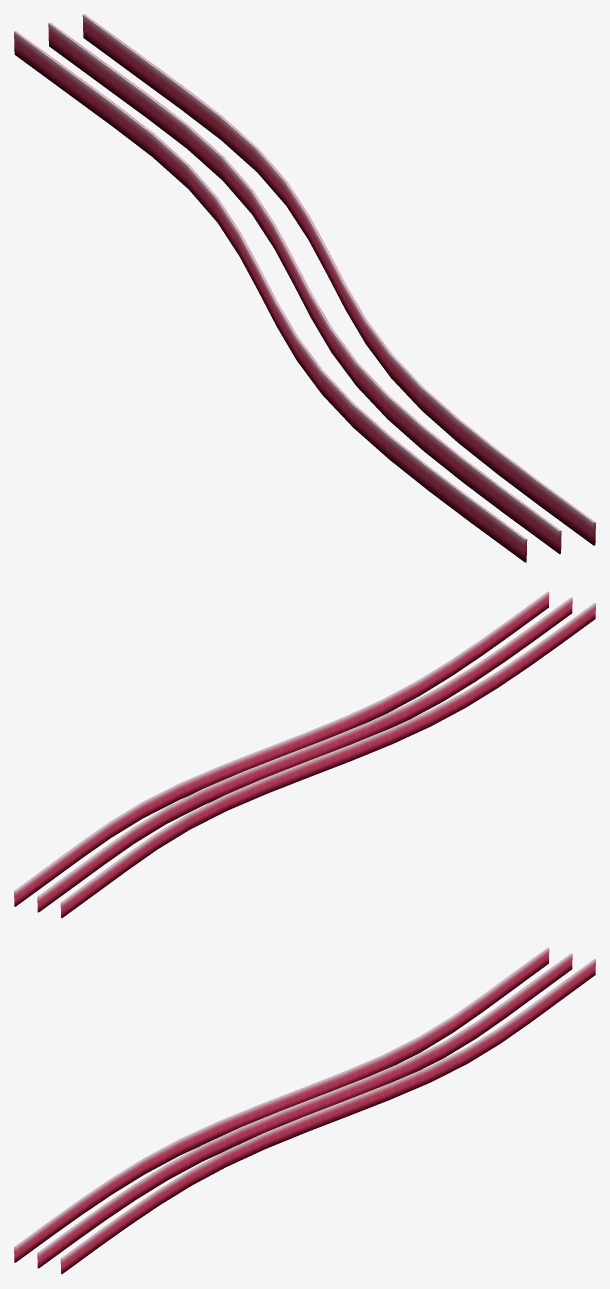
The picture shows the model from 3 angles, top to bottom: view 1: azimuth 30°, elevation 25°; view 2: azimuth 150°, elevation 25°; view 3: azimuth 330°, elevation 25°; orthographic projection. The views are drawn at different scales.
Parts seen in each view (by area): view 1: Object_1; view 2: Object_1; view 3: Object_1.
Part boxes in pixels (box(x1,y1,x2,y2)): Object_1: box(14, 14, 595, 562); Object_1: box(14, 591, 595, 917); Object_1: box(14, 947, 595, 1273).
Size of the model in its own units: 182 by 19.5 by 980.
